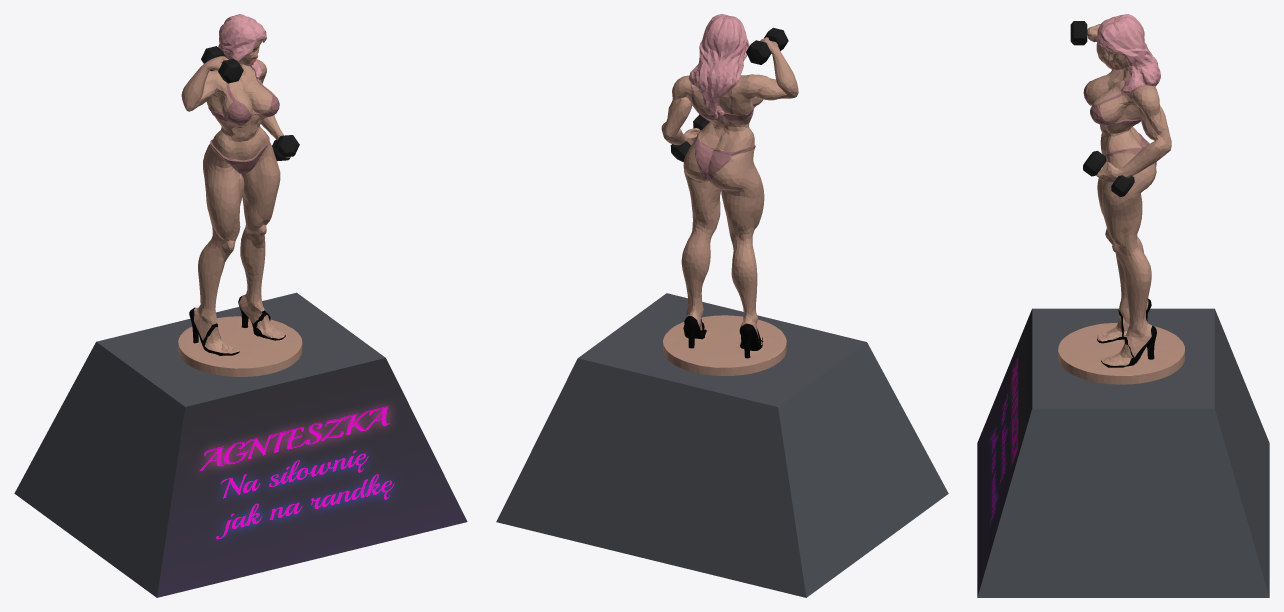
The model's file is pink.gltf.
3 renders of one model, left to right at view 1: azimuth 30°, elevation 25°; view 2: azimuth 150°, elevation 25°; view 3: azimuth 270°, elevation 25°, orthographic. The views are drawn at different scales.
Visible parts, largest first — view 1: another_stand2.003, Handle.005; view 2: another_stand2.003, Handle.005; view 3: another_stand2.003, Handle.005.
Boxes of the visible parts, left/top/right/bottom form: another_stand2.003: left=14, top=292, right=467, bottom=597; Handle.005: left=178, top=14, right=302, bottom=376; another_stand2.003: left=496, top=293, right=948, bottom=597; Handle.005: left=661, top=14, right=798, bottom=375; another_stand2.003: left=977, top=308, right=1269, bottom=597; Handle.005: left=1058, top=14, right=1184, bottom=384.
Bounding box in the file's own units: 1.94 × 2.93 × 1.54.
16 materials, 1 textured.
